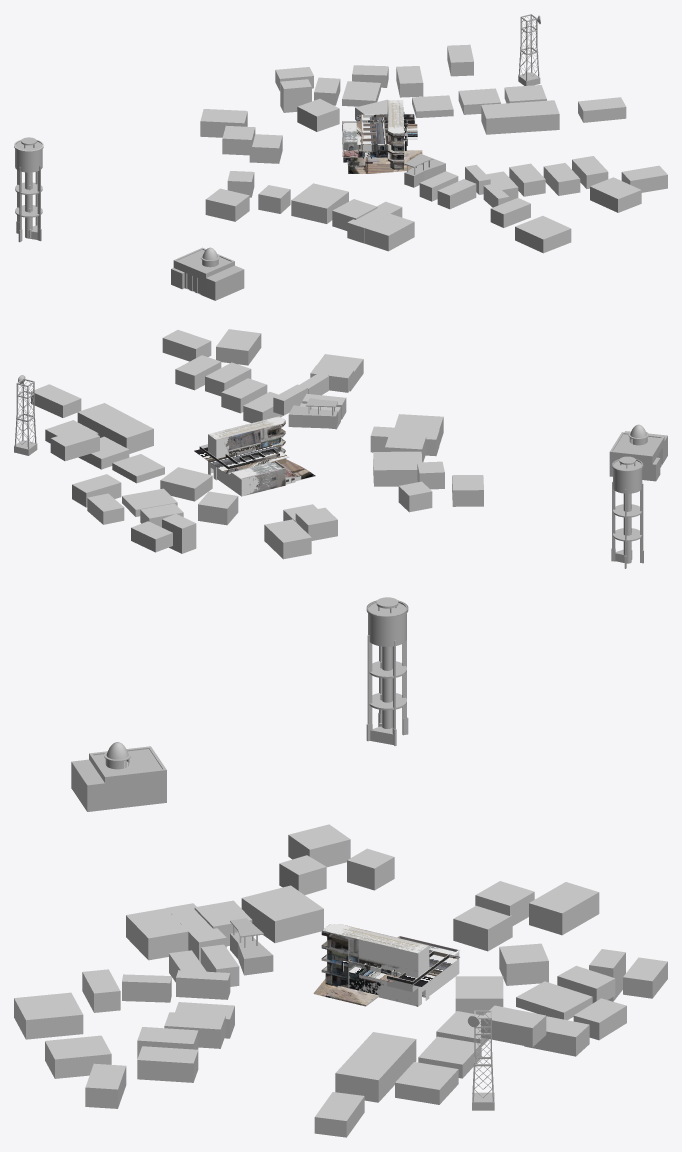
File: ground02.fbx
3 views of the same model, one above another, from view 1: azimuth 30°, elevation 25°; view 2: azimuth 150°, elevation 25°; view 3: azimuth 270°, elevation 25° (orthographic). The views are drawn at different scales.
Parts seen in each view (by area): view 1: hospital, mosque, watertower, Cube.004, Cube.030, Cube.020, Cube.033, Cube.019, Cube.031, radiotower, Cube.006, Cube.032 (+28 smaller); view 2: hospital, watertower, Cube.004, mosque, Cube.030, Cube.032, Cube.019, Cube, sidebuilding, radiotower, Cube.013, Cube.005 (+26 smaller); view 3: hospital, mosque, watertower, Cube.004, Cube.030, Cube.020, Cube.032, Cube.033, Cube.019, Cube.003, Cube.026, Cube.013 (+28 smaller).
Part boxes in pixels (bbox=[...]): hospital: bbox=[342, 100, 422, 173]; mosque: bbox=[171, 247, 244, 300]; watertower: bbox=[14, 137, 43, 242]; Cube.004: bbox=[481, 100, 559, 134]; Cube.030: bbox=[291, 183, 348, 223]; Cube.020: bbox=[515, 216, 571, 253]; Cube.033: bbox=[364, 214, 414, 251]; Cube.019: bbox=[590, 177, 641, 212]; Cube.031: bbox=[205, 188, 249, 221]; radiotower: bbox=[518, 14, 540, 85]; Cube.006: bbox=[297, 98, 339, 131]; Cube.032: bbox=[200, 109, 247, 137]; hospital: bbox=[194, 416, 315, 496]; watertower: bbox=[611, 456, 643, 568]; Cube.004: bbox=[77, 403, 153, 453]; mosque: bbox=[609, 424, 667, 481]; Cube.030: bbox=[373, 451, 422, 486]; Cube.032: bbox=[264, 519, 311, 559]; Cube.019: bbox=[216, 329, 261, 365]; Cube: bbox=[160, 467, 212, 501]; sidebuilding: bbox=[288, 398, 337, 428]; radiotower: bbox=[14, 375, 37, 455]; Cube.013: bbox=[50, 428, 99, 461]; Cube.005: bbox=[31, 384, 81, 417]; hospital: bbox=[313, 924, 460, 1006]; mosque: bbox=[71, 742, 166, 811]; watertower: bbox=[366, 597, 408, 745]; Cube.004: bbox=[335, 1032, 416, 1102]; Cube.030: bbox=[241, 885, 323, 942]; Cube.020: bbox=[14, 992, 83, 1039]; Cube.032: bbox=[529, 882, 599, 935]; Cube.033: bbox=[126, 908, 188, 960]; Cube.019: bbox=[45, 1035, 111, 1078]; Cube.003: bbox=[395, 1062, 458, 1104]; Cube.026: bbox=[453, 905, 512, 951]; Cube.013: bbox=[481, 1005, 546, 1047].
Size of what is drawn, in the model's own units: 30812 by 5421 by 20986.
